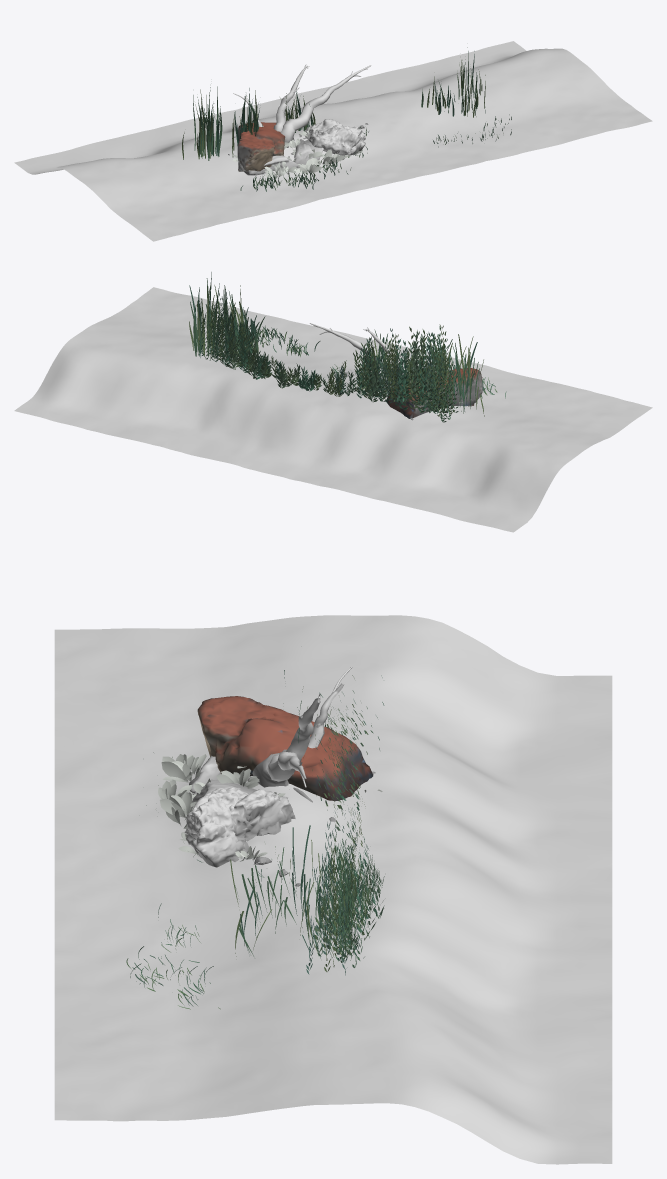
The model's file is environment.glb.
3 views of the same model, one above another, from view 1: azimuth 30°, elevation 25°; view 2: azimuth 150°, elevation 25°; view 3: azimuth 270°, elevation 25° (orthographic). The views are drawn at different scales.
Visible parts, largest first — view 1: slice-c-substrate, slice-c-growth, slice-c-rock-07, slice-c-boulder, slice-c-wood, slice-c-leaves, slice-c-rock-09; view 2: slice-c-substrate, slice-c-growth, slice-c-rock-07, slice-c-wood; view 3: slice-c-substrate, slice-c-growth, slice-c-rock-07, slice-c-boulder, slice-c-leaves, slice-c-wood, slice-c-rock-09.
Part boxes in pixels (<box>): slice-c-substrate: <box>14,41,652,241</box>; slice-c-growth: <box>182,47,511,191</box>; slice-c-rock-07: <box>237,122,285,171</box>; slice-c-boulder: <box>305,119,365,155</box>; slice-c-wood: <box>233,64,371,142</box>; slice-c-leaves: <box>232,127,361,177</box>; slice-c-rock-09: <box>244,134,323,175</box>; slice-c-substrate: <box>14,287,652,532</box>; slice-c-growth: <box>189,272,506,422</box>; slice-c-rock-07: <box>386,368,482,418</box>; slice-c-wood: <box>309,323,423,390</box>; slice-c-substrate: <box>54,615,612,1164</box>; slice-c-growth: <box>126,670,384,1009</box>; slice-c-rock-07: <box>197,696,373,801</box>; slice-c-boulder: <box>184,786,295,867</box>; slice-c-leaves: <box>158,754,382,861</box>; slice-c-wood: <box>252,667,352,802</box>; slice-c-rock-09: <box>189,755,287,811</box>.
Size of the model in its own units: 18 by 4.32 by 8.7.
